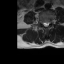CCS_normal: (45, 19, 47, 29)
LFS_normal: (49, 19, 51, 26)
LLS_normal: (47, 19, 49, 28)
RFS_normal: (41, 18, 43, 26)
RLS_normal: (43, 20, 45, 27)
